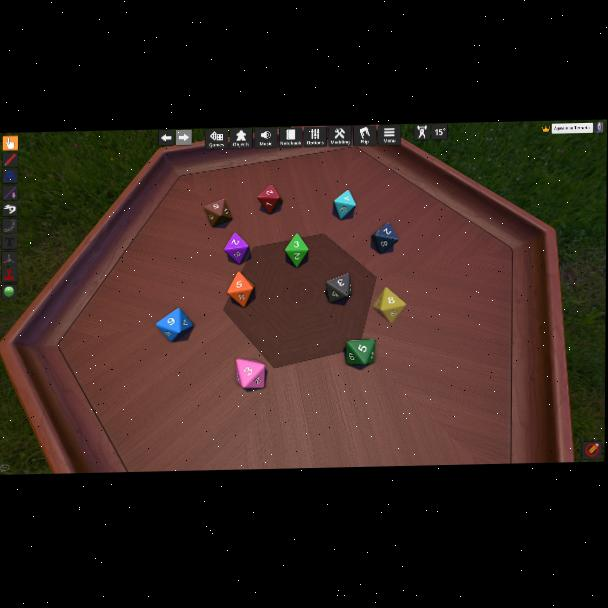d8: (156, 308, 193, 342), (374, 287, 406, 324), (227, 272, 254, 307), (236, 358, 265, 389), (372, 223, 398, 254), (285, 234, 309, 267), (225, 231, 250, 262), (204, 199, 231, 227), (258, 185, 283, 215), (345, 339, 373, 365), (326, 274, 350, 303), (333, 191, 356, 220)
